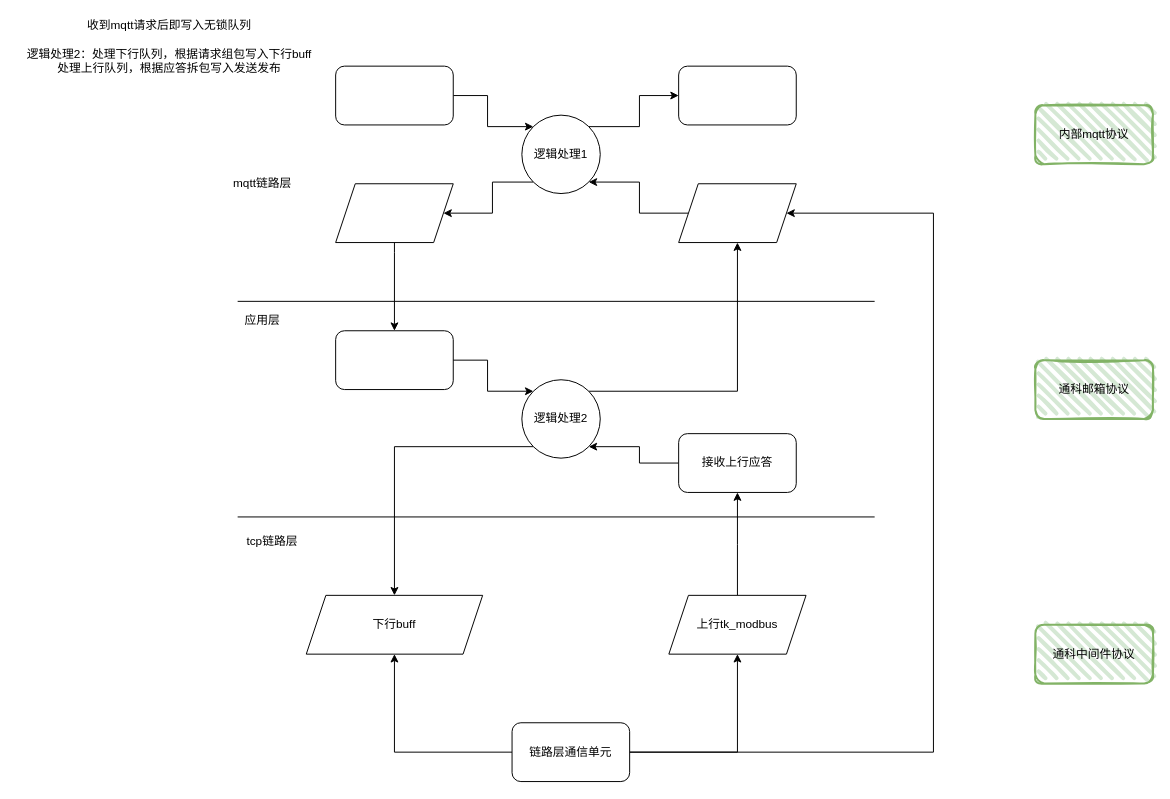
The diagram is 1170 pixels wide and 799 high, and some of its shapes have lost their labels. Each missing label, with the centre of its shape:
"mqtt应答" belongs at pixel 737 213.
"mqtt请求" belongs at pixel 394 213.
"接收下行请求" belongs at pixel 394 360.
"接收订阅" belongs at pixel 394 95.
"推送发布" belongs at pixel 737 95.
